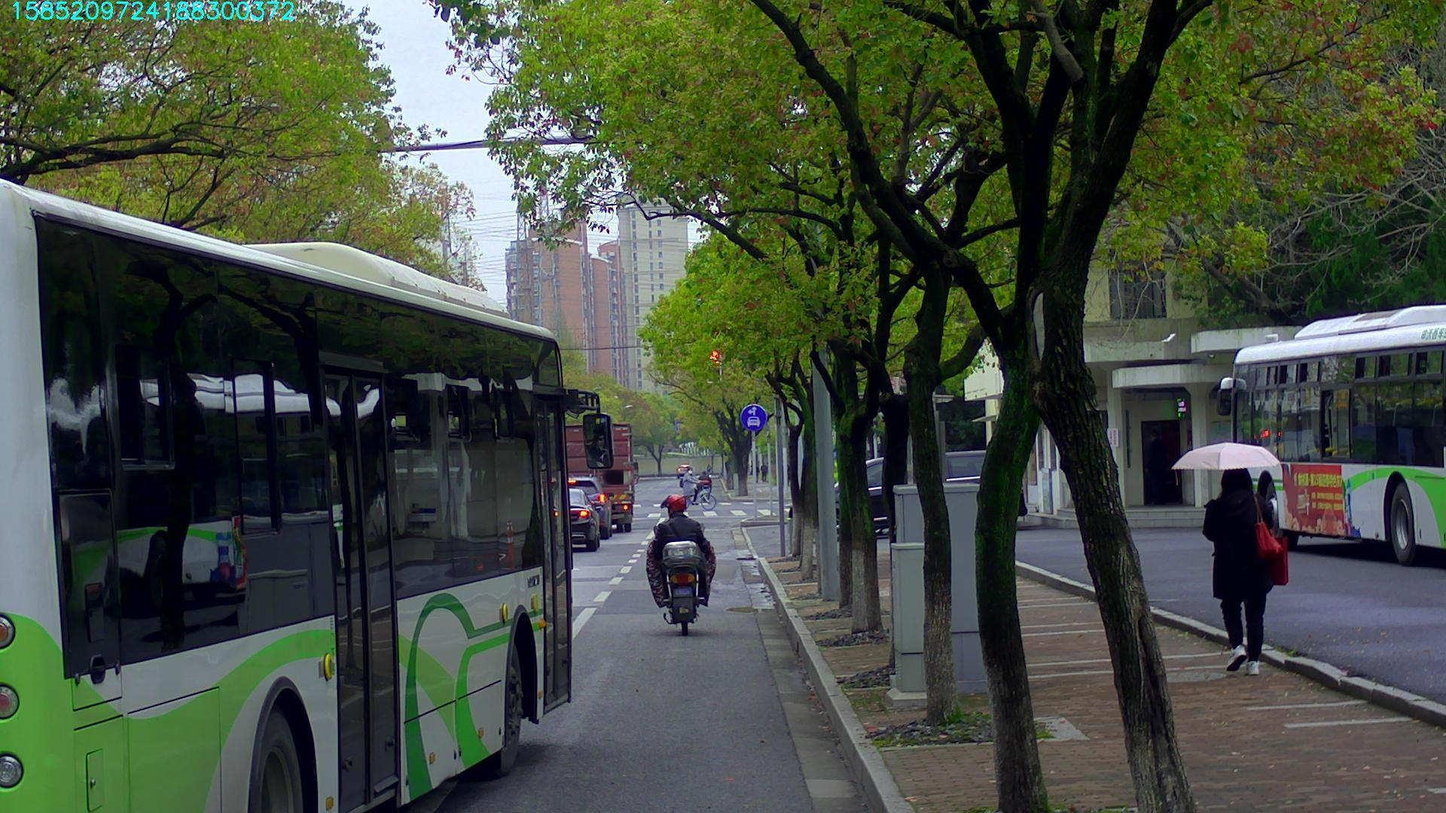red: (707, 349, 721, 382)
